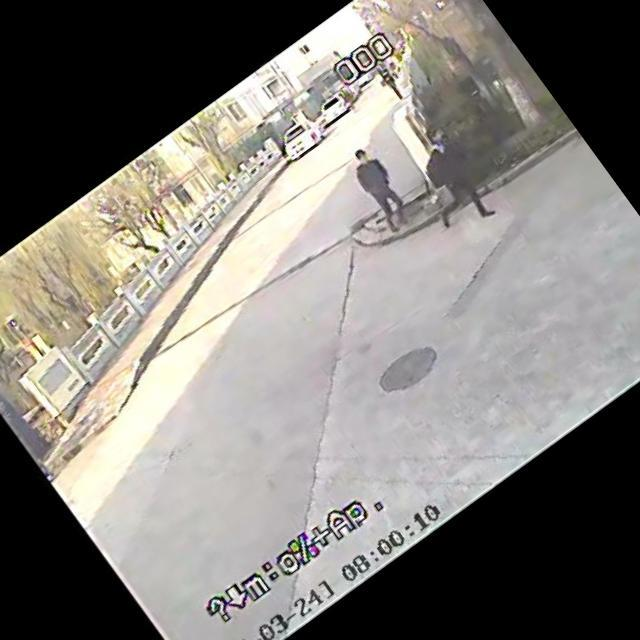person: (387, 114, 506, 244), (334, 135, 422, 237), (366, 57, 412, 107), (334, 84, 363, 116), (382, 51, 404, 75)
